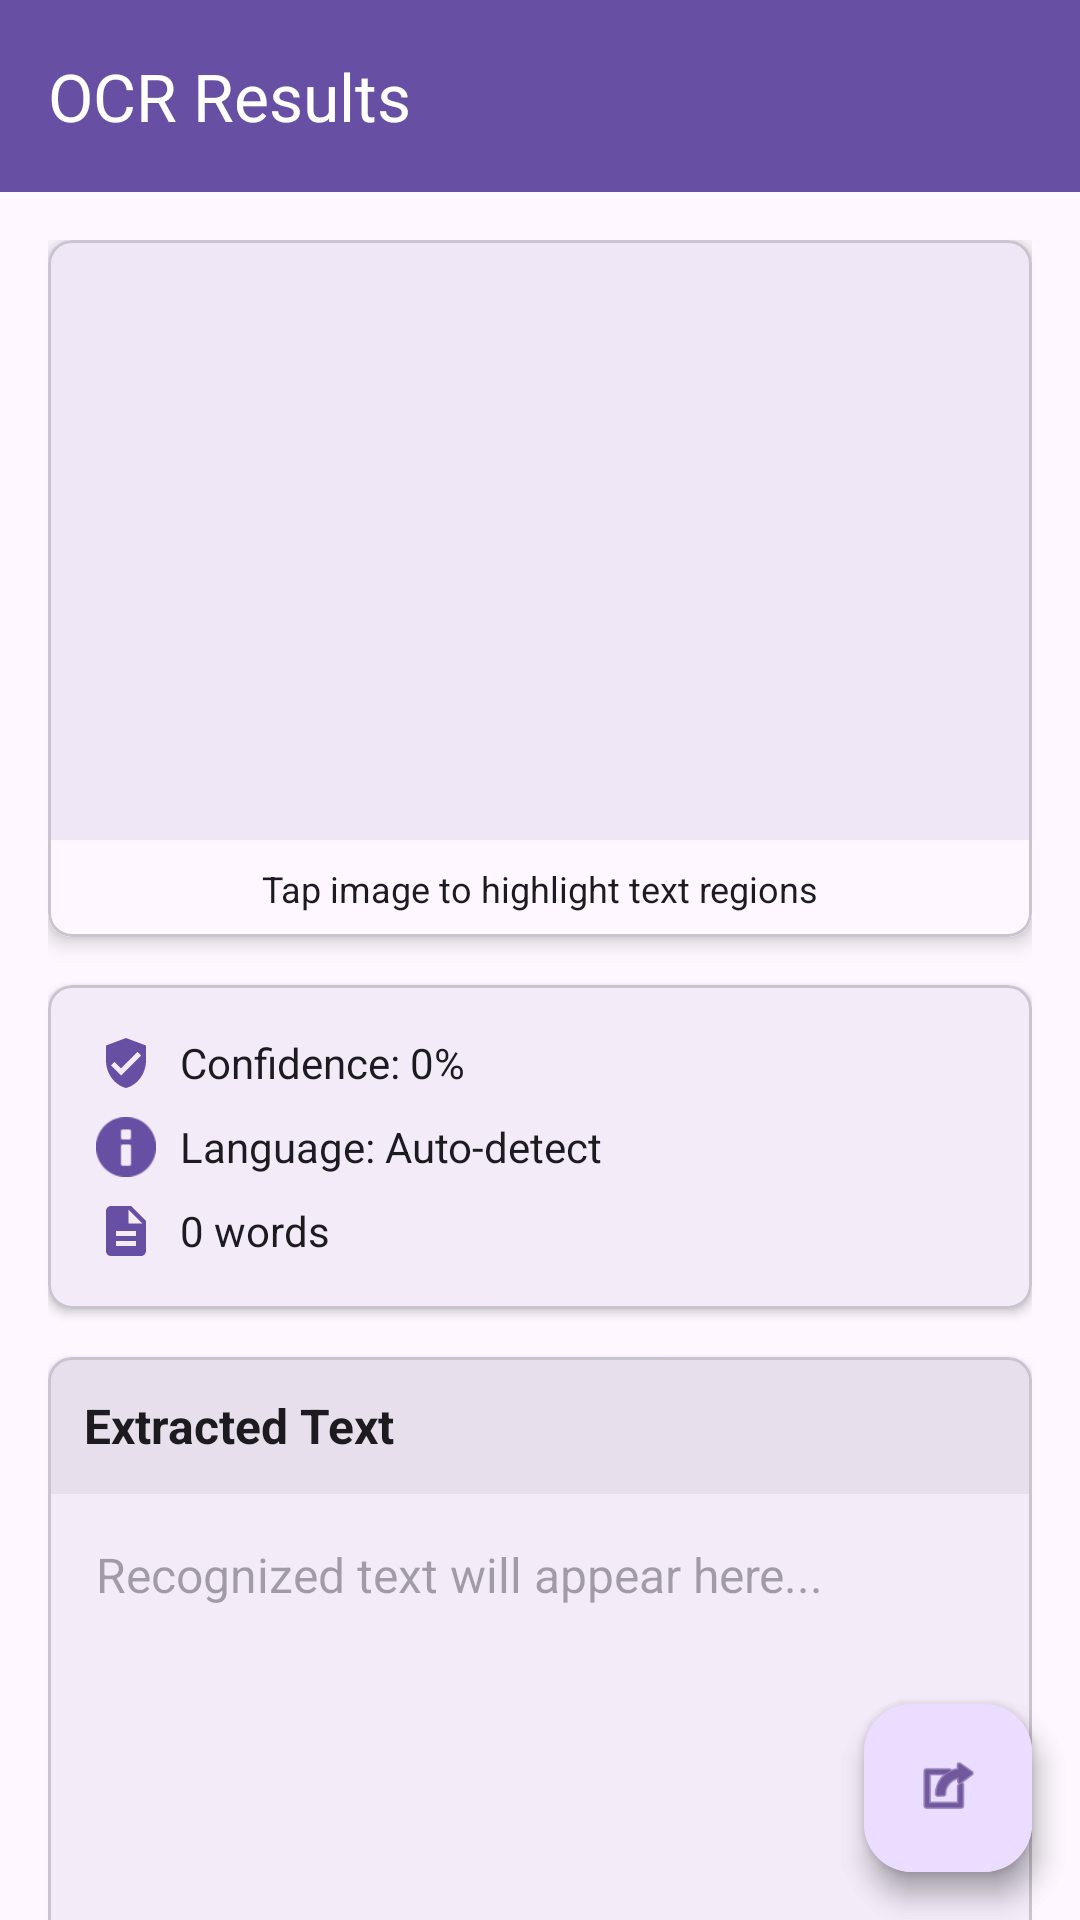

Screen size 1080*1920. Icon name, then its box in pixels as bbox=[x1, y1, x2, y2]:
Word Count Icon: bbox=[106, 1206, 146, 1256]
